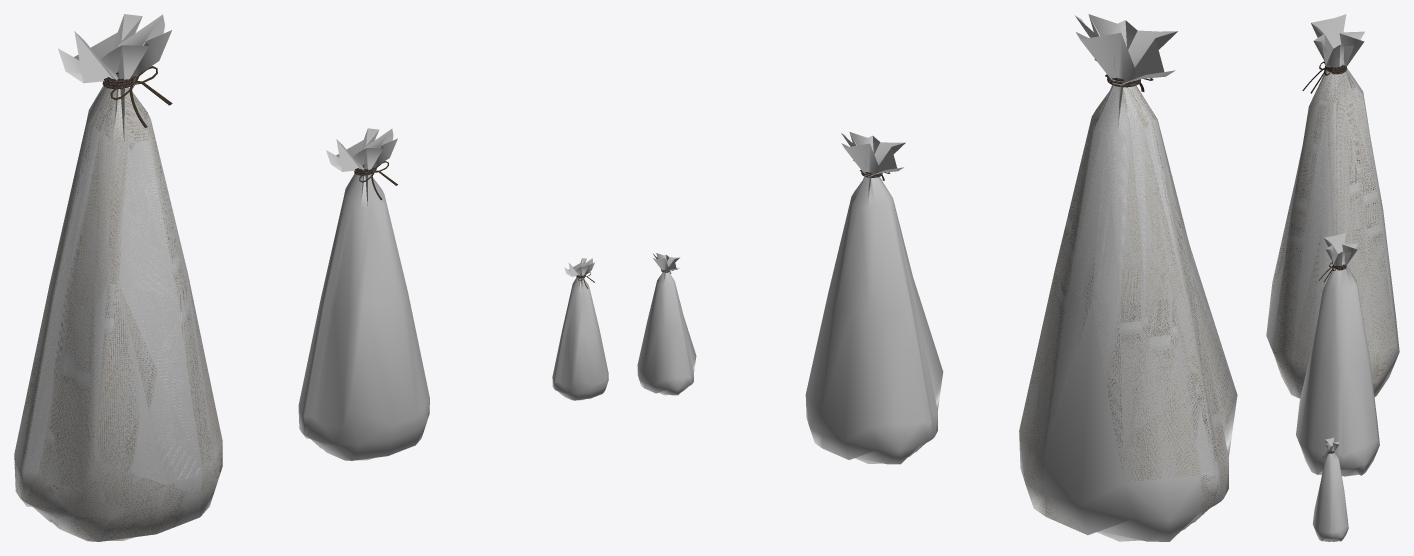
3 views of the same model, side by side, from view 1: azimuth 30°, elevation 25°; view 2: azimuth 150°, elevation 25°; view 3: azimuth 270°, elevation 25° (orthographic). The views are drawn at different scales.
Parts seen in each view (by area): view 1: GrainSack01_4 (×2), GrainSack01_5 (×3); view 2: GrainSack01_4 (×3), GrainSack01_5 (×5); view 3: GrainSack01_4 (×3), GrainSack01_5 (×4).
Boxes of the visible parts, x1,y1,x2,y2 form: GrainSack01_4 (×2): (14, 14, 222, 541); GrainSack01_5 (×3): (298, 128, 608, 460); GrainSack01_4 (×3): (1019, 14, 1237, 541); GrainSack01_5 (×5): (637, 132, 943, 464); GrainSack01_4 (×3): (1266, 14, 1399, 398); GrainSack01_5 (×4): (1296, 232, 1379, 541).
Bounding box in the file's own units: 26.03 × 7.12 × 21.9.
